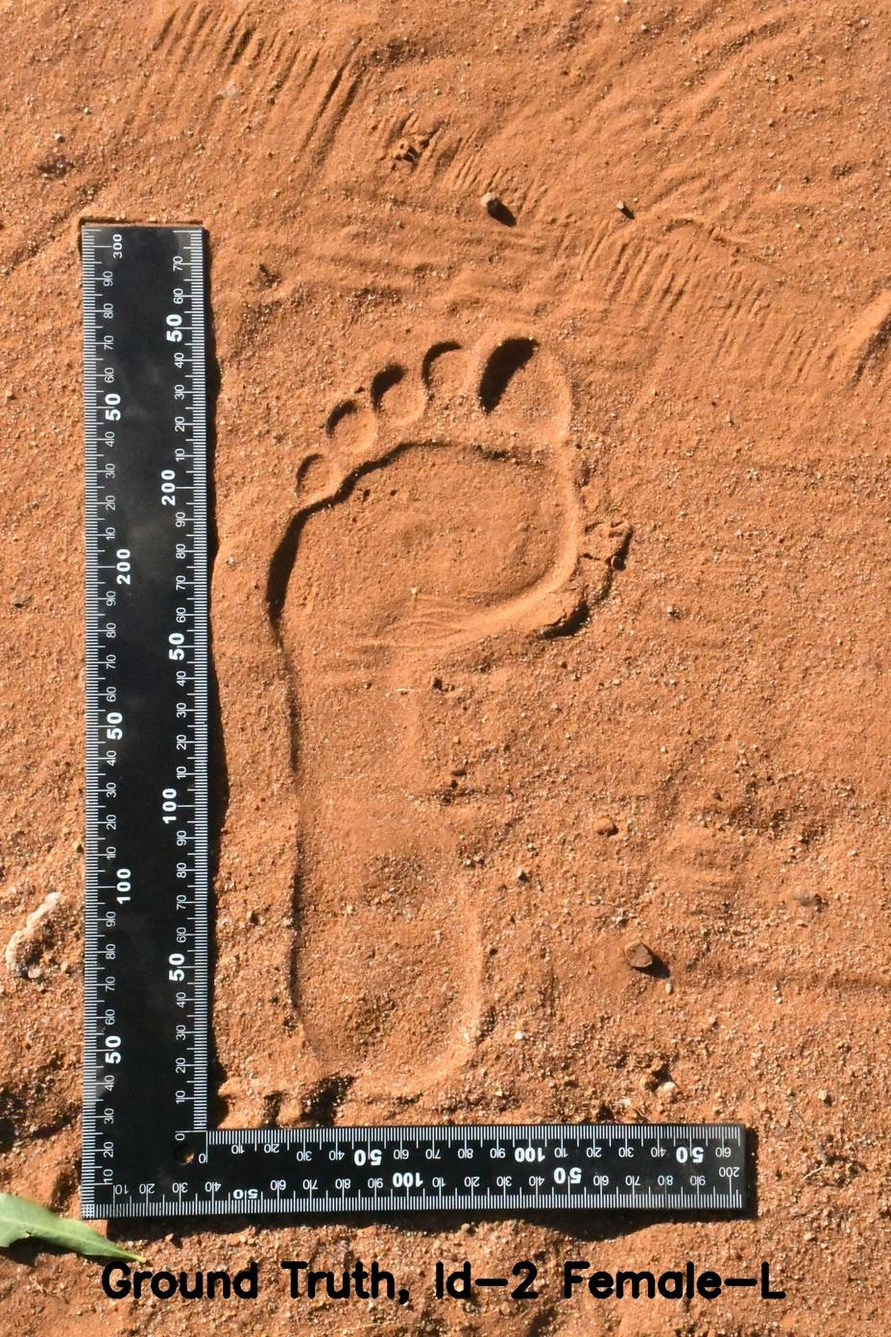human_foot_print: (237, 266, 638, 1114)
